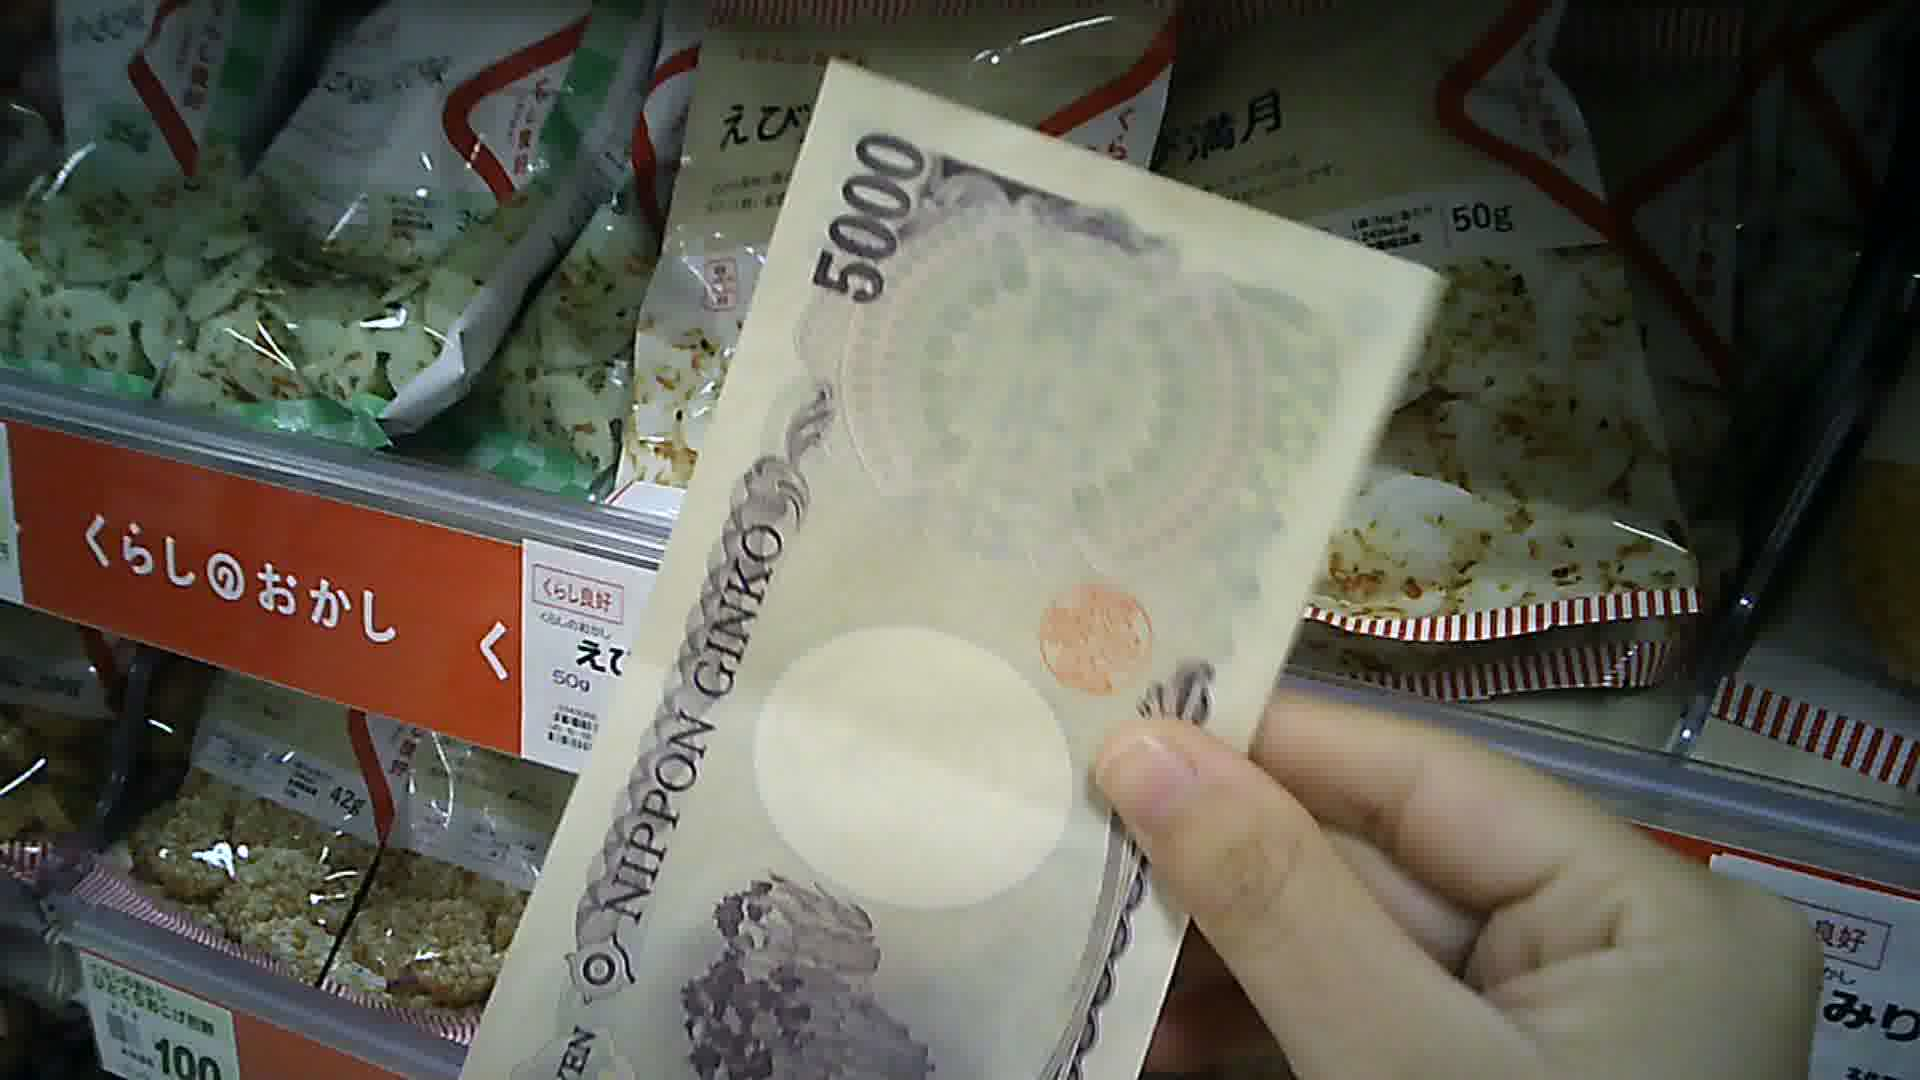5,000 Yen: (534, 47, 1354, 1079)
